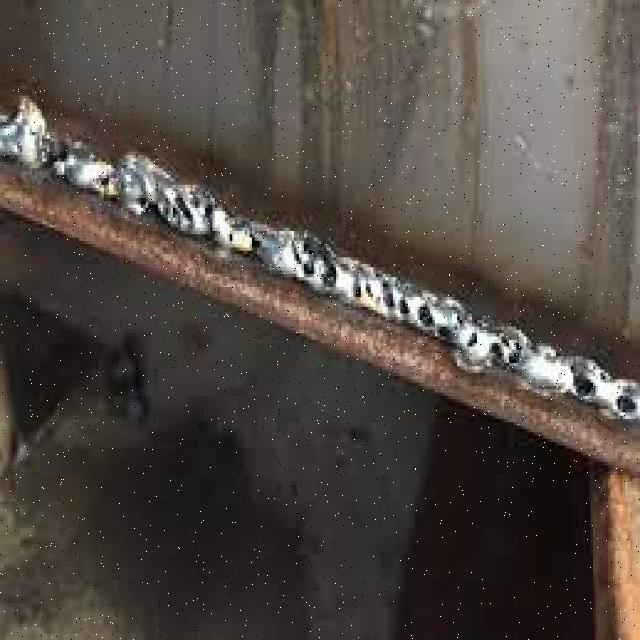Porosity: (289, 234, 341, 294), (159, 183, 219, 228), (349, 281, 412, 320), (483, 323, 528, 374), (411, 302, 455, 344), (565, 358, 597, 400), (36, 142, 72, 176), (612, 379, 640, 421), (129, 186, 152, 216), (244, 227, 265, 254), (463, 327, 480, 352), (98, 170, 114, 189), (228, 230, 236, 245)
